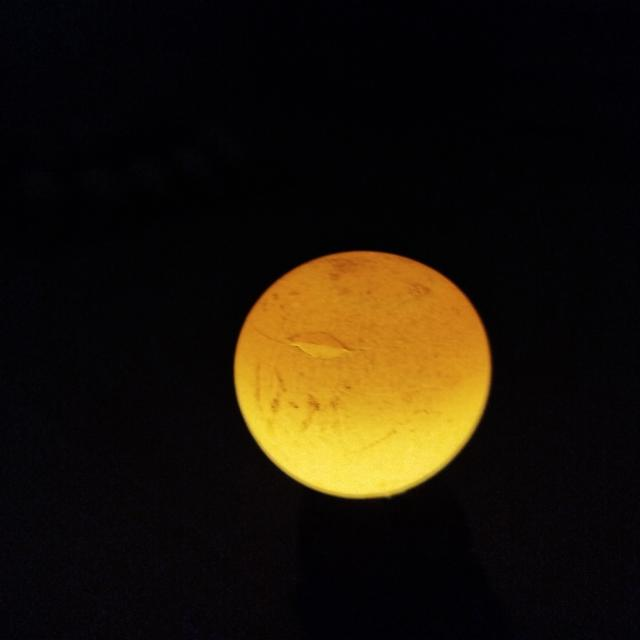Rachadura: (288, 332, 349, 359)
